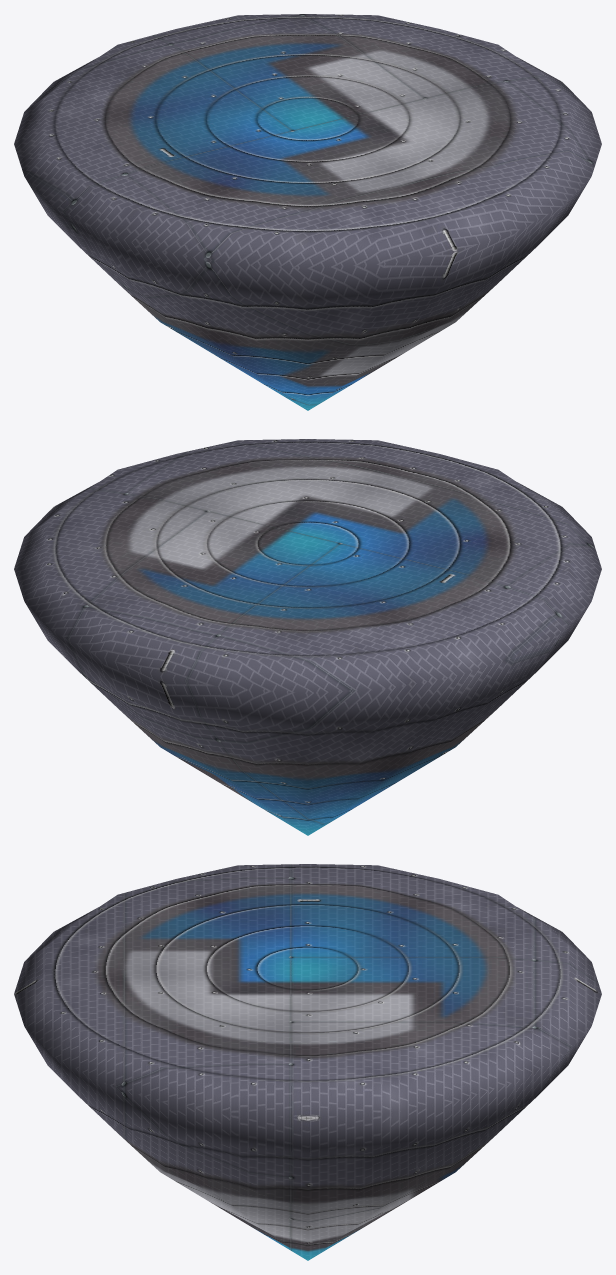
The model's file is space-podium.obj.
The picture shows the model from 3 angles, top to bottom: view 1: azimuth 30°, elevation 25°; view 2: azimuth 150°, elevation 25°; view 3: azimuth 270°, elevation 25°; orthographic projection.
Parts seen in each view (by area): view 1: Cone; view 2: Cone; view 3: Cone.
Part boxes in pixels (x1,y1,x2,y2): Cone: (14, 14, 601, 410); Cone: (14, 439, 601, 835); Cone: (14, 864, 601, 1260).
Bounding box in the file's own units: 9.66 × 5.3 × 9.66.
